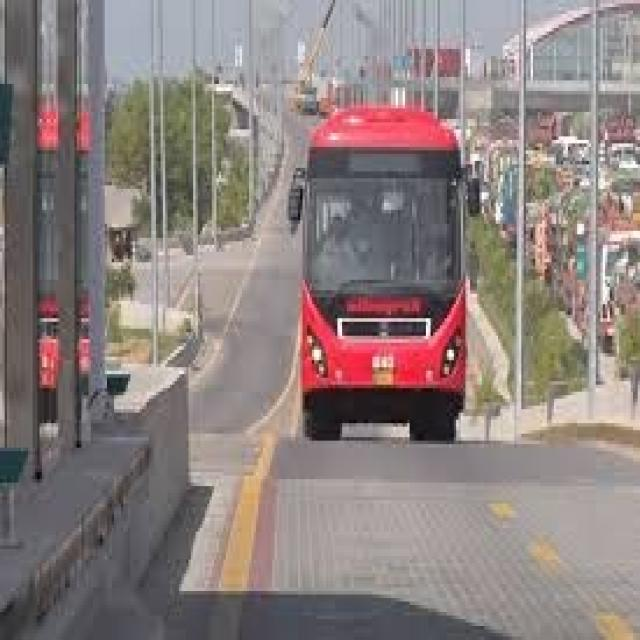bus: (282, 94, 483, 474)
